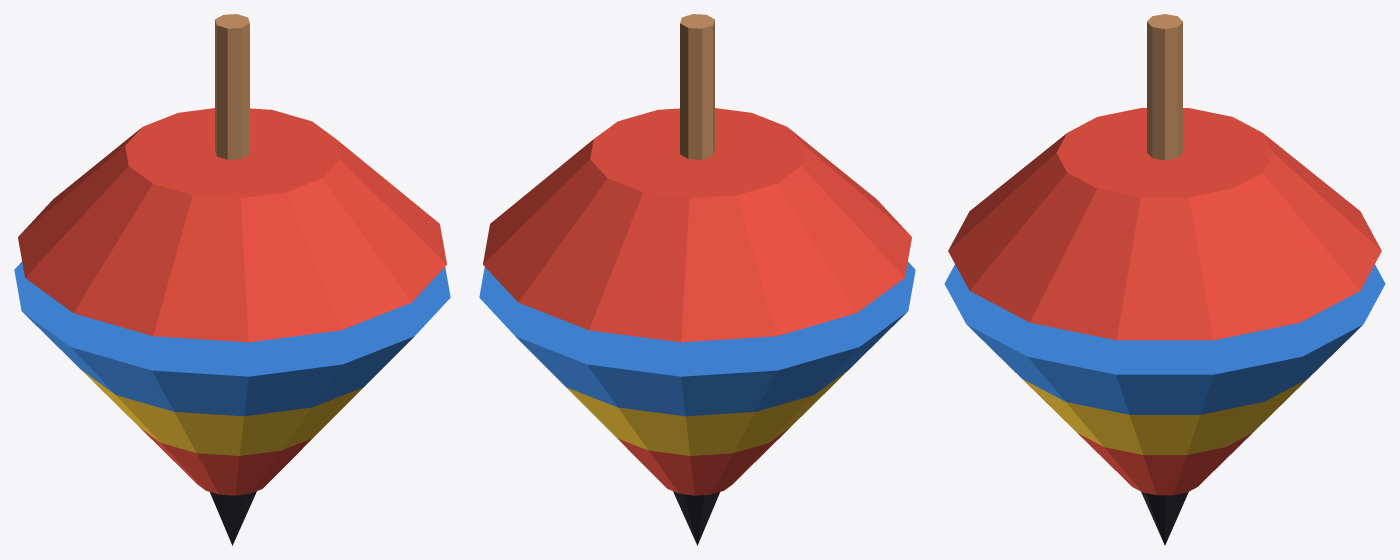
File: giant_top.glb
3 views of the same model, side by side, from view 1: azimuth 30°, elevation 25°; view 2: azimuth 150°, elevation 25°; view 3: azimuth 270°, elevation 25° (orthographic).
Parts seen in each view (by area): view 1: crown, bands_2, bands_1, handle_top_handle, bands_0, tip_top_tip; view 2: crown, bands_2, bands_1, handle_top_handle, bands_0, tip_top_tip; view 3: crown, bands_2, bands_1, handle_top_handle, bands_0, tip_top_tip.
Part boxes in pixels (<box>): crown: <box>18,108,446,342</box>; bands_2: <box>14,262,450,416</box>; bands_1: <box>81,370,363,455</box>; handle_top_handle: <box>215,14,249,159</box>; bands_0: <box>140,428,312,495</box>; tip_top_tip: <box>210,491,256,545</box>; crown: <box>483,108,911,342</box>; bands_2: <box>479,262,915,416</box>; bands_1: <box>566,370,848,455</box>; handle_top_handle: <box>680,14,714,159</box>; bands_0: <box>617,428,789,495</box>; tip_top_tip: <box>673,491,719,545</box>; crown: <box>948,108,1381,340</box>; bands_2: <box>944,264,1385,414</box>; bands_1: <box>1022,379,1307,454</box>; handle_top_handle: <box>1147,14,1182,160</box>; bands_0: <box>1077,433,1252,495</box>; tip_top_tip: <box>1141,492,1188,545</box>.
Size of the model in its own units: 1.19 by 1.6 by 1.22.
